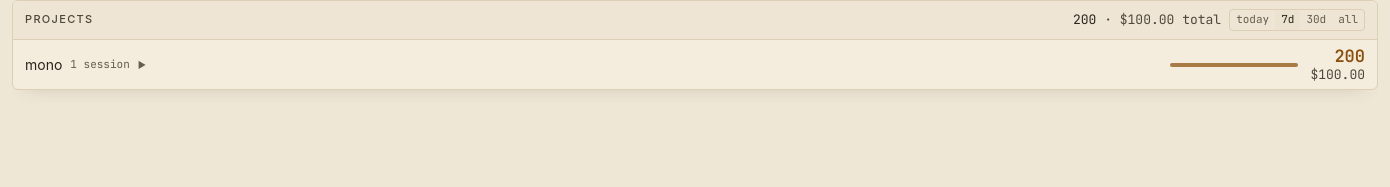
Test: ProjectsPanel figures › states a parent own spend apart from its subtree total
This screenshot has width=1390, height=187.
What coordinates should you click on to do the following:
click the button titled "mono: show cost by directory"
I would click on:
 (44, 64)
Its box is [13,40,1377,89].
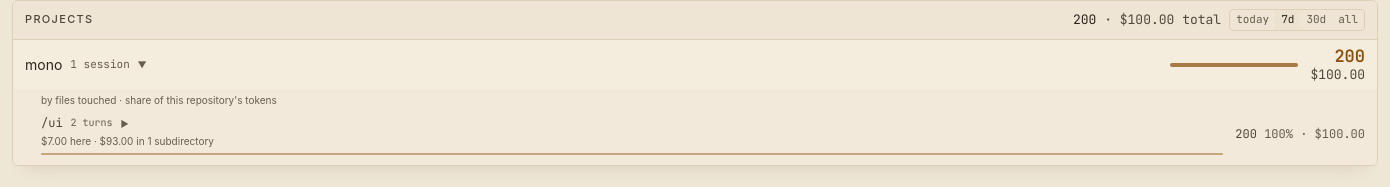
Expected: the element showing "200 100% · $100.00" is shown, [1235,126,1365,144]
Expected: the text "$7.00 here · $93.00 in 1 subdirectory" is shown, [41,135,214,147]
